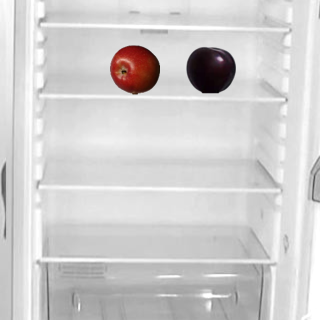Apple Braeburn: (109, 44, 159, 94)
Cherry Wax Black: (185, 44, 235, 94)
